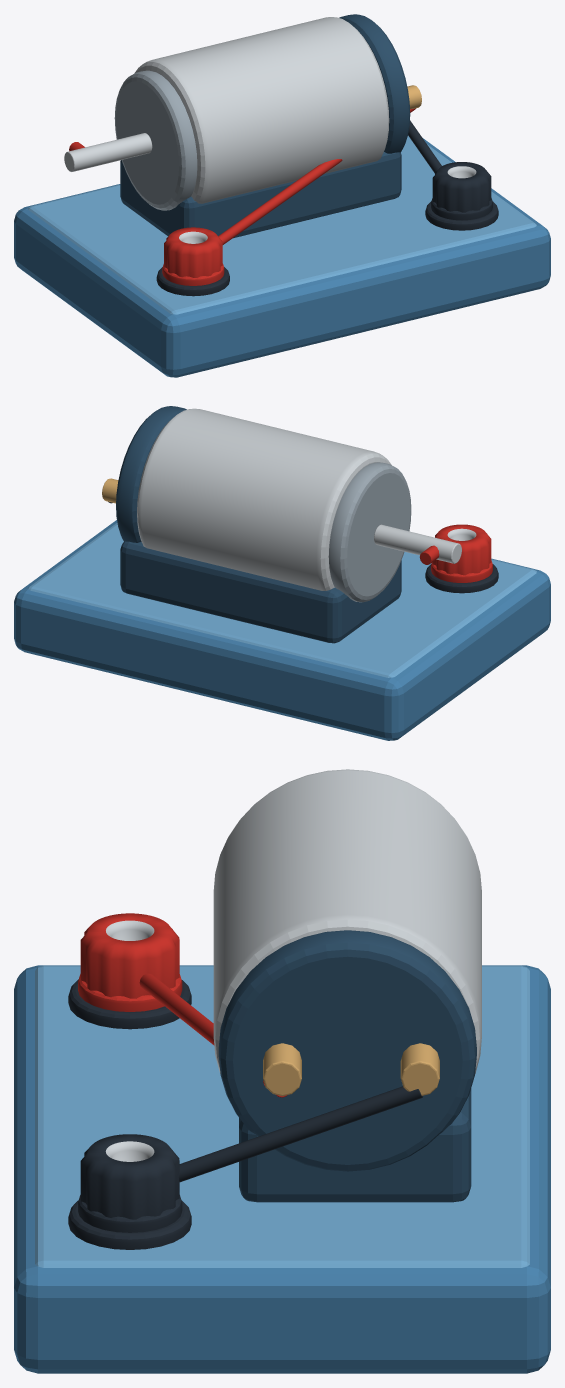
The model's file is motor-bare.glb.
3 renders of one model, top to bottom at view 1: azimuth 30°, elevation 25°; view 2: azimuth 150°, elevation 25°; view 3: azimuth 270°, elevation 25°, orthographic. The views are drawn at different scales.
Visible parts, largest first — view 1: Motor specimen support, Rolled steel motor casing, Top shoulder, Molded motor saddle, Pressed motor front plate, Insulated brush end cap, n binding socket, p binding socket, Exposed motor spindle, Lead to terminal, n socket washer, p socket washer (+3 smaller); view 2: Motor specimen support, Rolled steel motor casing, Top shoulder, Molded motor saddle, Pressed motor front plate, Insulated brush end cap, p binding socket, Exposed motor spindle, p socket washer, p socket foot; view 3: Top shoulder, Motor specimen support, Rolled steel motor casing, Insulated brush end cap, Molded motor saddle, n binding socket, p binding socket, Lead to terminal.001, n socket washer, p socket washer, Exposed motor solder tab, Exposed motor solder tab.001 (+3 smaller).
Boxes of the visible parts, <box> form: Motor specimen support: <box>14,138,550,377</box>; Rolled steel motor casing: <box>134,17,389,203</box>; Top shoulder: <box>28,135,536,314</box>; Molded motor saddle: <box>120,152,401,238</box>; Pressed motor front plate: <box>114,70,197,210</box>; Insulated brush end cap: <box>339,14,410,153</box>; n binding socket: <box>432,162,491,212</box>; p binding socket: <box>164,227,222,277</box>; Exposed motor spindle: <box>64,133,152,171</box>; Lead to terminal: <box>218,108,415,244</box>; n socket washer: <box>425,201,498,230</box>; p socket washer: <box>156,267,229,296</box>; Motor specimen support: <box>14,520,550,740</box>; Rolled steel motor casing: <box>137,408,391,590</box>; Top shoulder: <box>28,523,536,677</box>; Molded motor saddle: <box>120,541,401,643</box>; Pressed motor front plate: <box>328,462,411,602</box>; Insulated brush end cap: <box>116,406,186,542</box>; p binding socket: <box>432,524,491,575</box>; Exposed motor spindle: <box>374,524,461,563</box>; p socket washer: <box>425,564,498,593</box>; p socket foot: <box>431,560,492,582</box>; Top shoulder: <box>35,965,529,1267</box>; Motor specimen support: <box>14,965,550,1373</box>; Rolled steel motor casing: <box>213,769,481,1074</box>; Insulated brush end cap: <box>218,930,476,1171</box>; Molded motor saddle: <box>239,1088,471,1202</box>; n binding socket: <box>80,1134,179,1219</box>; p binding socket: <box>80,913,179,998</box>; Lead to terminal.001: <box>178,1086,422,1182</box>; n socket washer: <box>68,1200,191,1249</box>; p socket washer: <box>68,979,191,1029</box>; Exposed motor solder tab: <box>263,1043,301,1096</box>; Exposed motor solder tab.001: <box>400,1043,439,1095</box>.
Size of the model in its own units: 0.104 by 0.0585 by 0.074.
